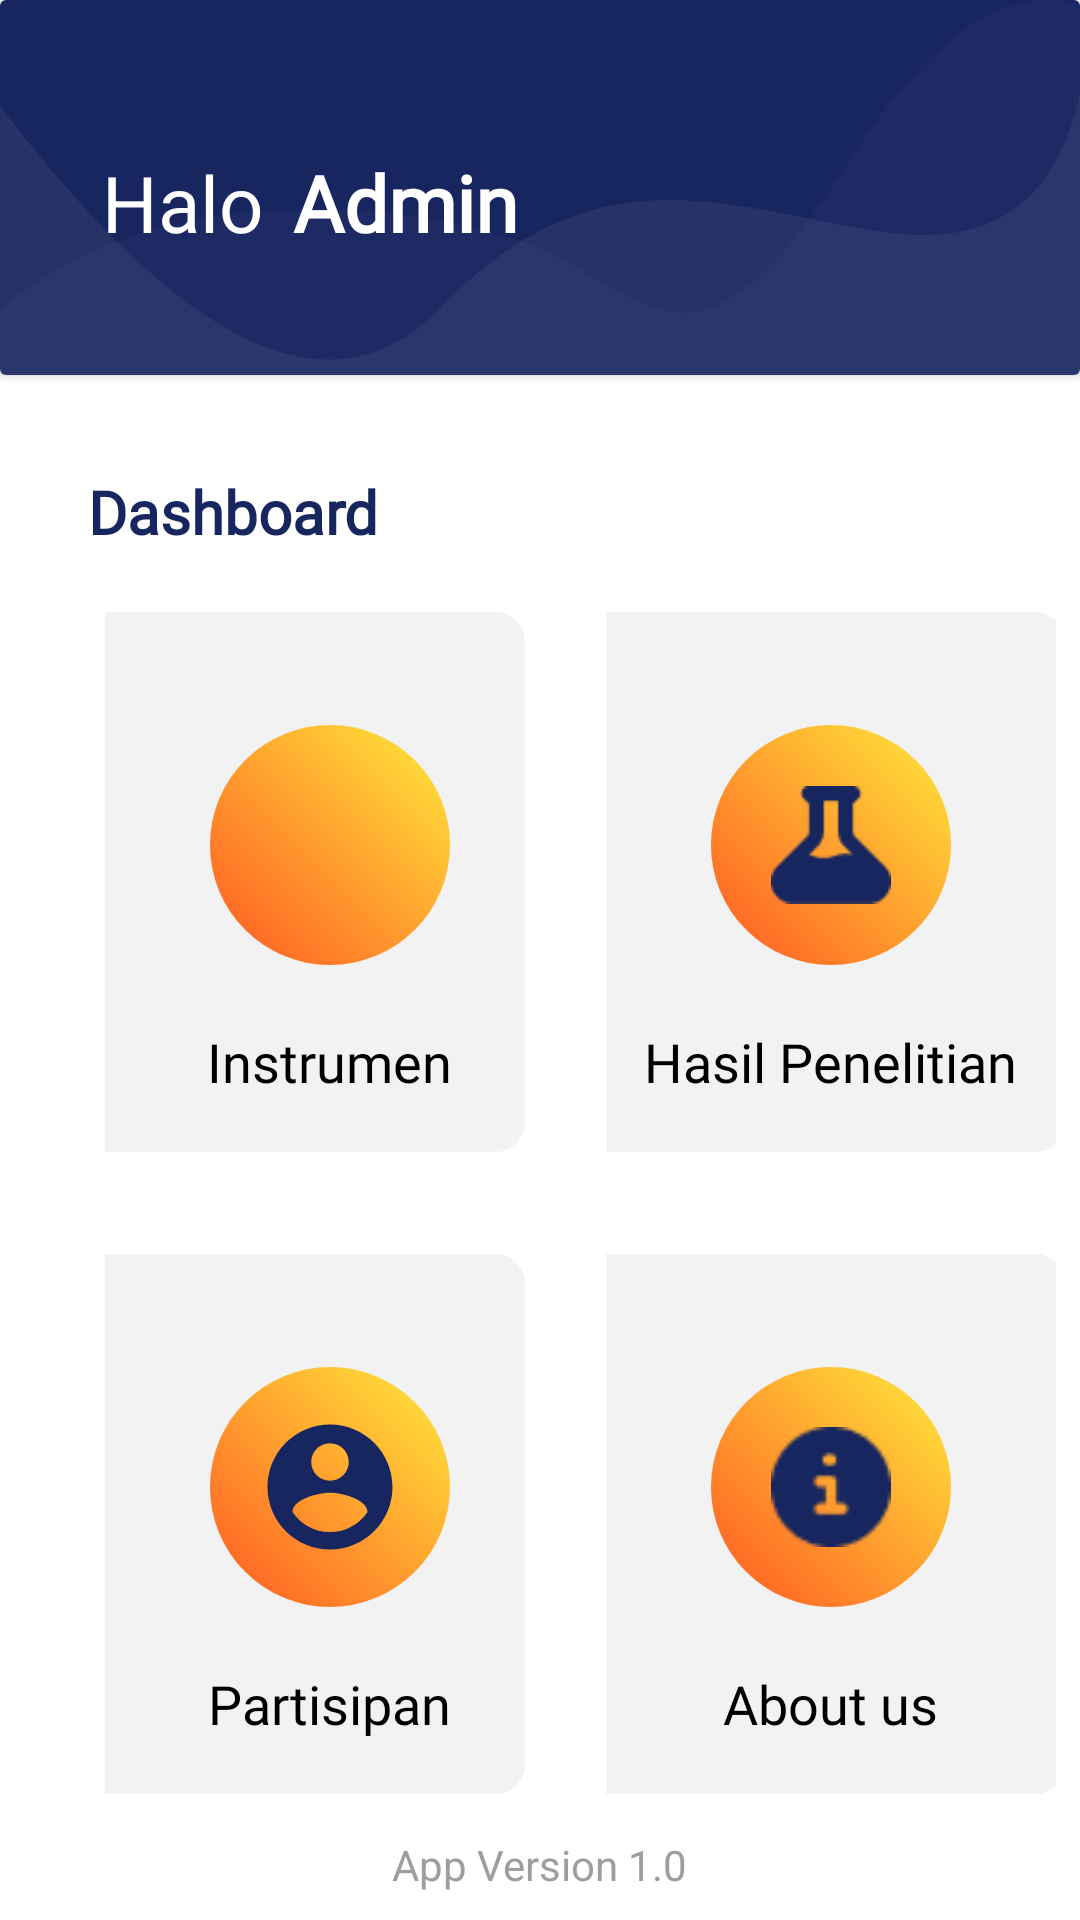

Icon bounding boxes for this 1080 x 1920 phone screenshot, format rect(x1, y1, x2, y2):
profile: rect(210, 1367, 450, 1607)
